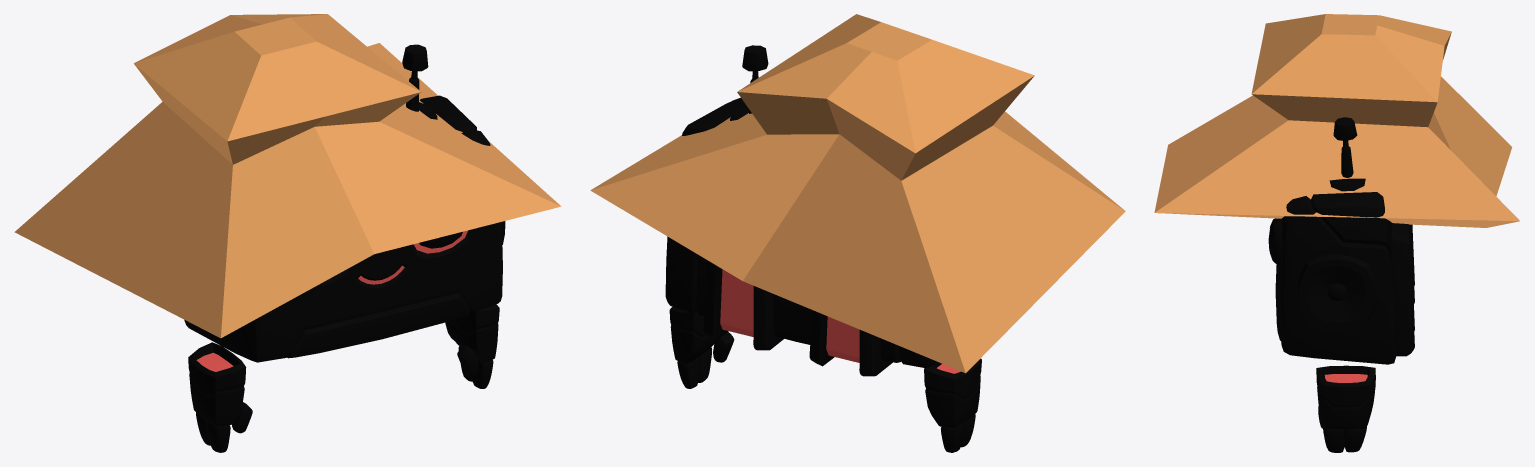
The picture shows the model from 3 angles, left to right: view 1: azimuth 30°, elevation 25°; view 2: azimuth 150°, elevation 25°; view 3: azimuth 270°, elevation 25°; orthographic projection. The views are drawn at different scales.
Visible parts, largest first — view 1: Куб, Object_21, Object_22; view 2: Куб, Object_21, Object_22; view 3: Куб, Object_21.
Part boxes in pixels (box(x1,y1,x2,y2)): Куб: box(14, 14, 561, 338); Object_21: box(184, 44, 505, 452); Object_22: box(196, 230, 467, 371); Куб: box(590, 14, 1125, 373); Object_21: box(665, 45, 981, 452); Object_22: box(720, 269, 960, 373); Куб: box(1154, 14, 1519, 227); Object_21: box(1268, 117, 1414, 452).
Bounding box in the file's own units: 42.58 × 42.23 × 40.62.
